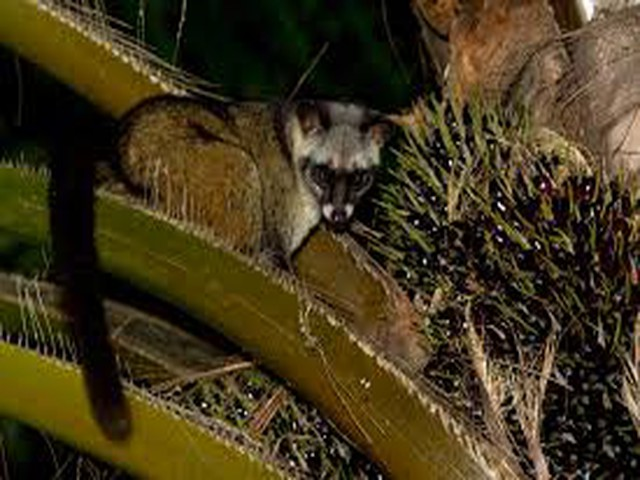civet: (50, 92, 400, 442)
